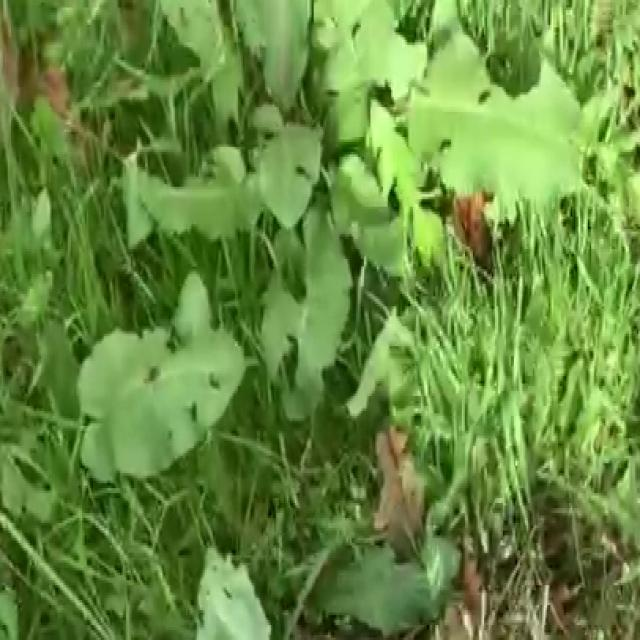organic waste: (77, 0, 605, 560), (186, 520, 463, 640)
